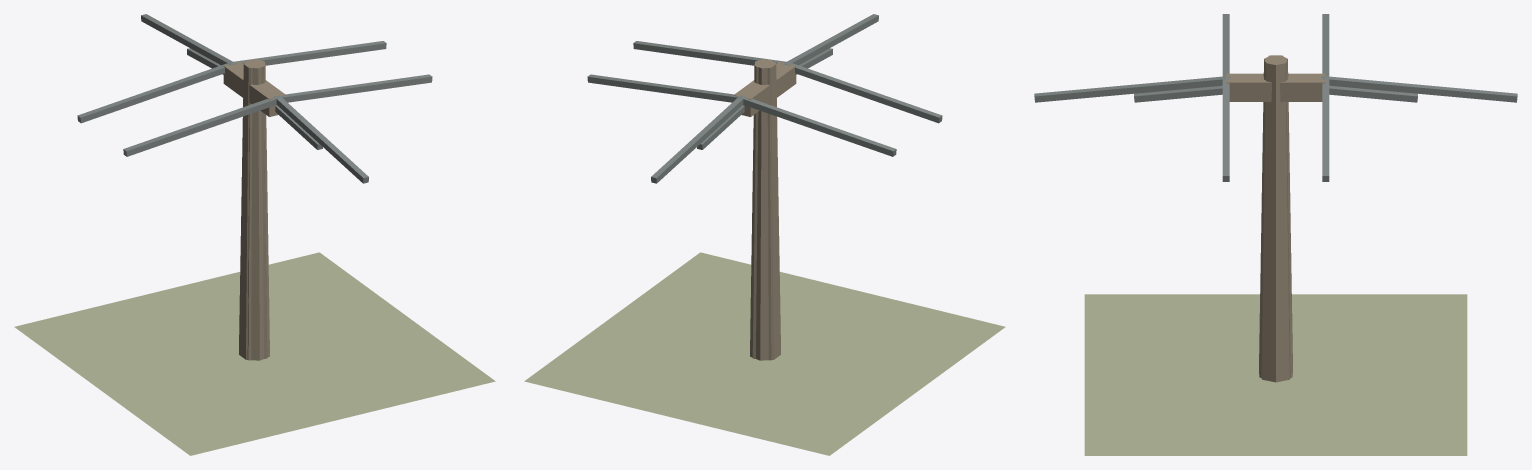
3 views of the same model, side by side, from view 1: azimuth 30°, elevation 25°; view 2: azimuth 150°, elevation 25°; view 3: azimuth 270°, elevation 25° (orthographic). The views are drawn at different scales.
Visible parts, largest first — view 1: Near, Far; view 2: Near, Far; view 3: Near, Far.
Part boxes in pixels (box(x1,y1,x2,y2)): Near: box(14, 14, 495, 455); Far: box(243, 59, 267, 360); Near: box(524, 14, 1005, 455); Far: box(752, 59, 776, 360); Near: box(1034, 14, 1517, 455); Far: box(1259, 55, 1292, 377).
Size of the model in its own units: 1 by 0.91 by 1.26.
